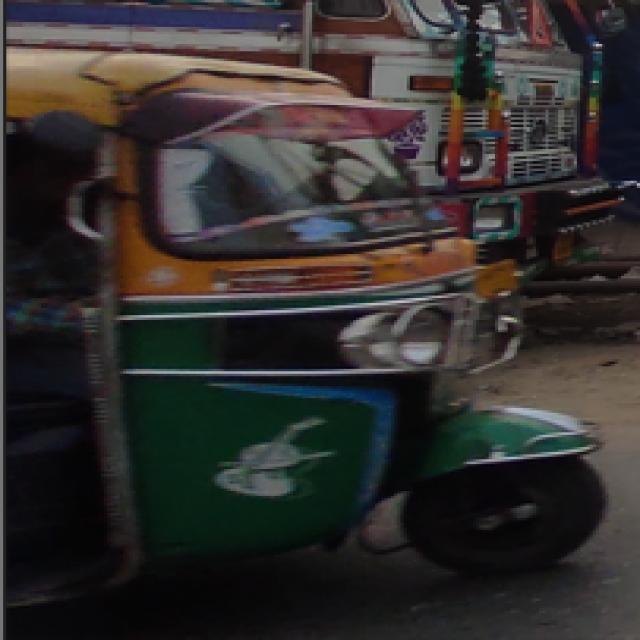autorickshaw: (3, 34, 615, 611)
